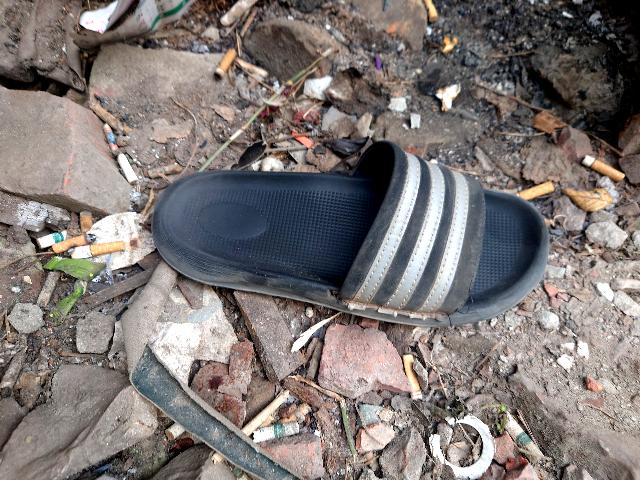sandal: (125, 147, 545, 330)
